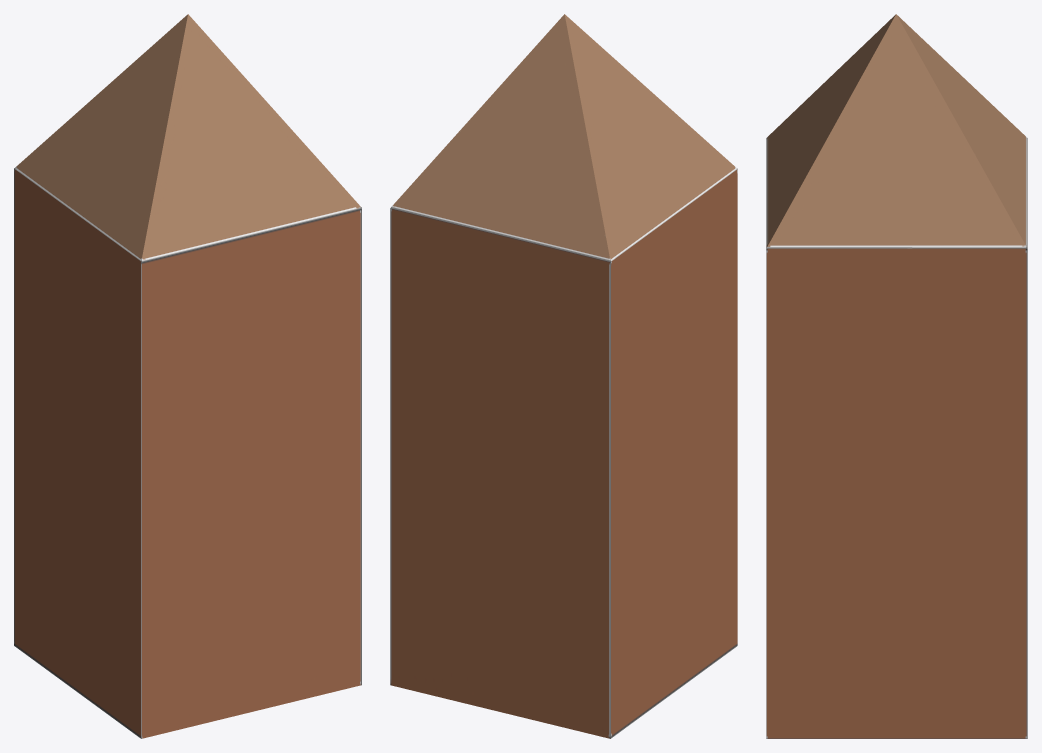
Rendered from ammo.dae.
The picture shows the model from 3 angles, left to right: view 1: azimuth 30°, elevation 25°; view 2: azimuth 150°, elevation 25°; view 3: azimuth 270°, elevation 25°; orthographic projection. The views are drawn at different scales.
Parts seen in each view (by area): view 1: Cube; view 2: Cube; view 3: Cube.
Boxes of the visible parts, x1,y1,x2,y2 form: Cube: (14, 14, 361, 738); Cube: (390, 14, 737, 738); Cube: (766, 14, 1027, 738).
Size of the model in its own units: 0.614 by 0.6133 by 1.73.
1 material, 1 textured.
